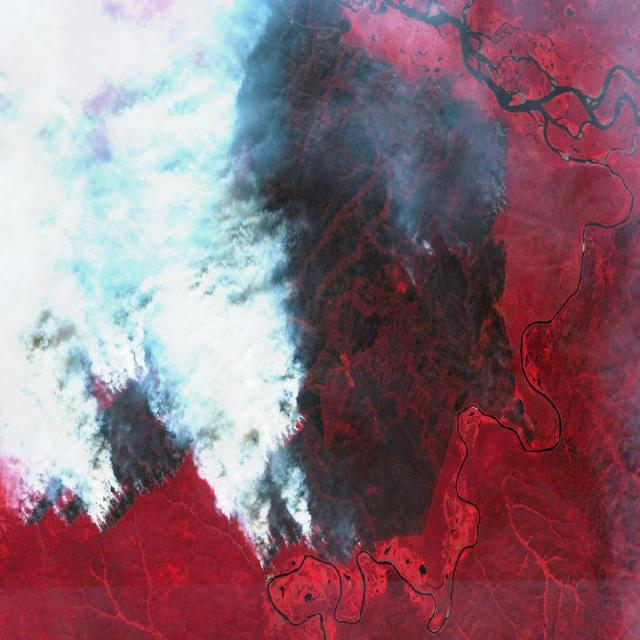fire: (18, 361, 199, 547), (221, 406, 324, 579), (483, 110, 520, 236)
